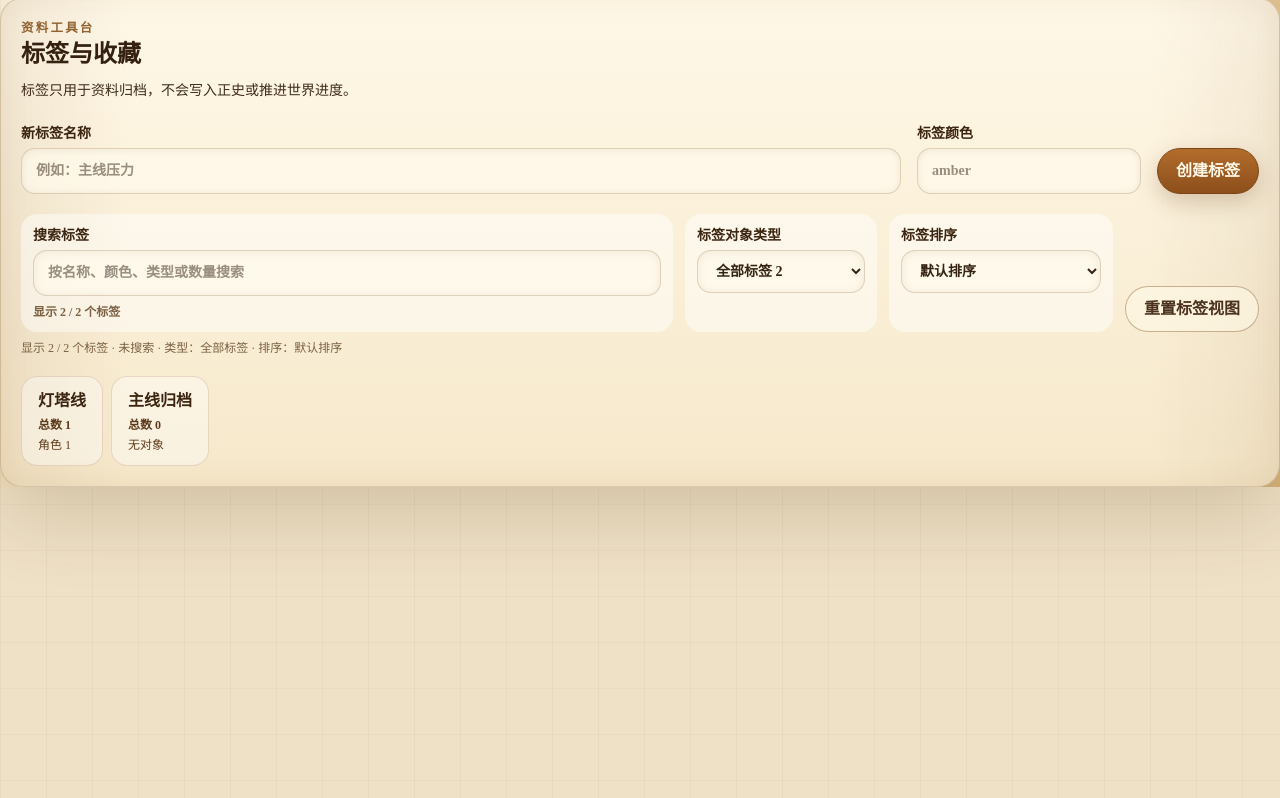
WorldTagsPanel › renders selected tag objects with Chinese object and status labels
expect the text "灯塔线" is shown: met, box [38,389,86,413]
What coordinates should you click on to do the following:
click the button with aria-label "查看 灯塔线"
I would click on:
 (62, 421)
Its box is [21,376,103,466].
(page scrolled)
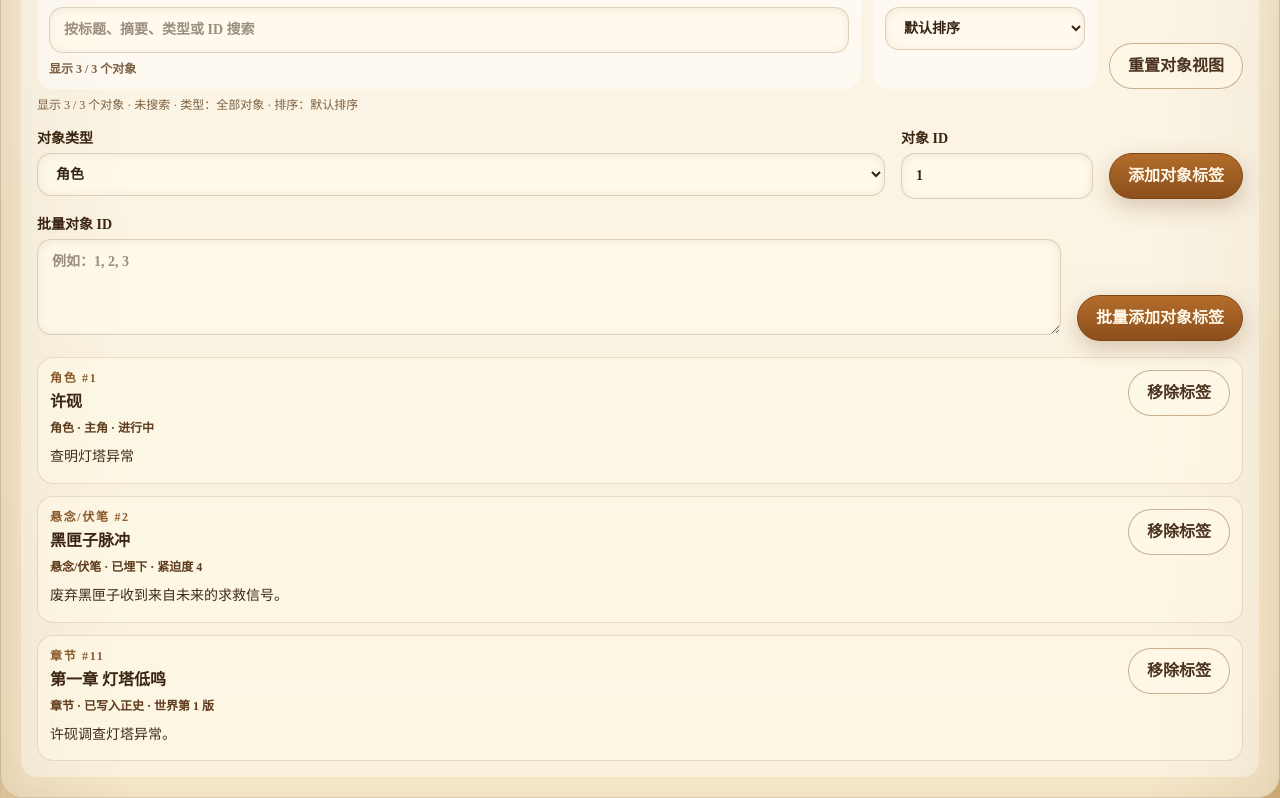
expect the text "角色 #1" is shown: met, box [50,370,97,386]
expect the text "悬念/伏笔 #2" is shown: met, box [50,509,130,525]
expect the text "章节 #11" is shown: met, box [50,648,104,662]
